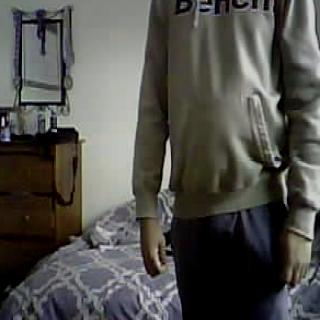Blue Sweatpants: (166, 216, 299, 320)
Yellow Hoodie: (136, 0, 320, 208)
